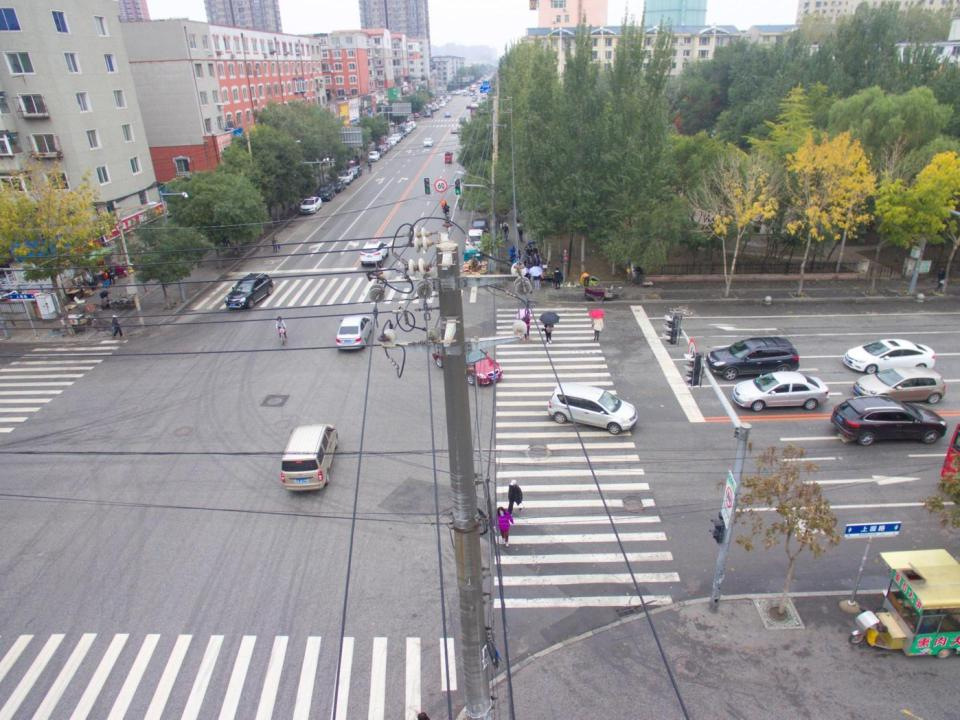bus: (470, 103, 480, 118)
car: (831, 396, 946, 443), (550, 382, 642, 433), (708, 336, 800, 382), (732, 371, 828, 412), (843, 338, 935, 374), (433, 340, 502, 386), (854, 368, 945, 401), (225, 272, 274, 309), (336, 312, 374, 352), (360, 241, 388, 266), (464, 229, 486, 255), (301, 195, 321, 214), (315, 184, 337, 200), (469, 218, 488, 234), (338, 170, 354, 183), (330, 178, 344, 192), (346, 166, 362, 176), (367, 150, 379, 161), (423, 137, 434, 148), (373, 148, 384, 157), (378, 143, 387, 154), (391, 132, 400, 142), (399, 129, 409, 138), (386, 138, 396, 146), (383, 142, 392, 150), (406, 123, 415, 131), (450, 126, 458, 134), (412, 110, 420, 118), (409, 120, 416, 128), (423, 111, 431, 118), (444, 111, 451, 118), (434, 104, 440, 110), (430, 104, 435, 110), (466, 104, 471, 108), (472, 98, 477, 101)
van: (279, 422, 338, 493), (460, 249, 485, 284), (459, 116, 466, 124)
